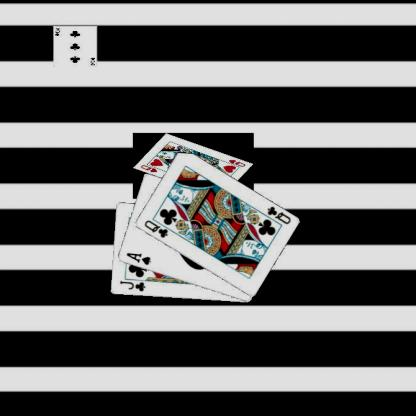AS: (124, 250, 152, 266)
JC: (117, 278, 146, 293)
QC: (141, 217, 169, 239), (264, 204, 292, 225)
